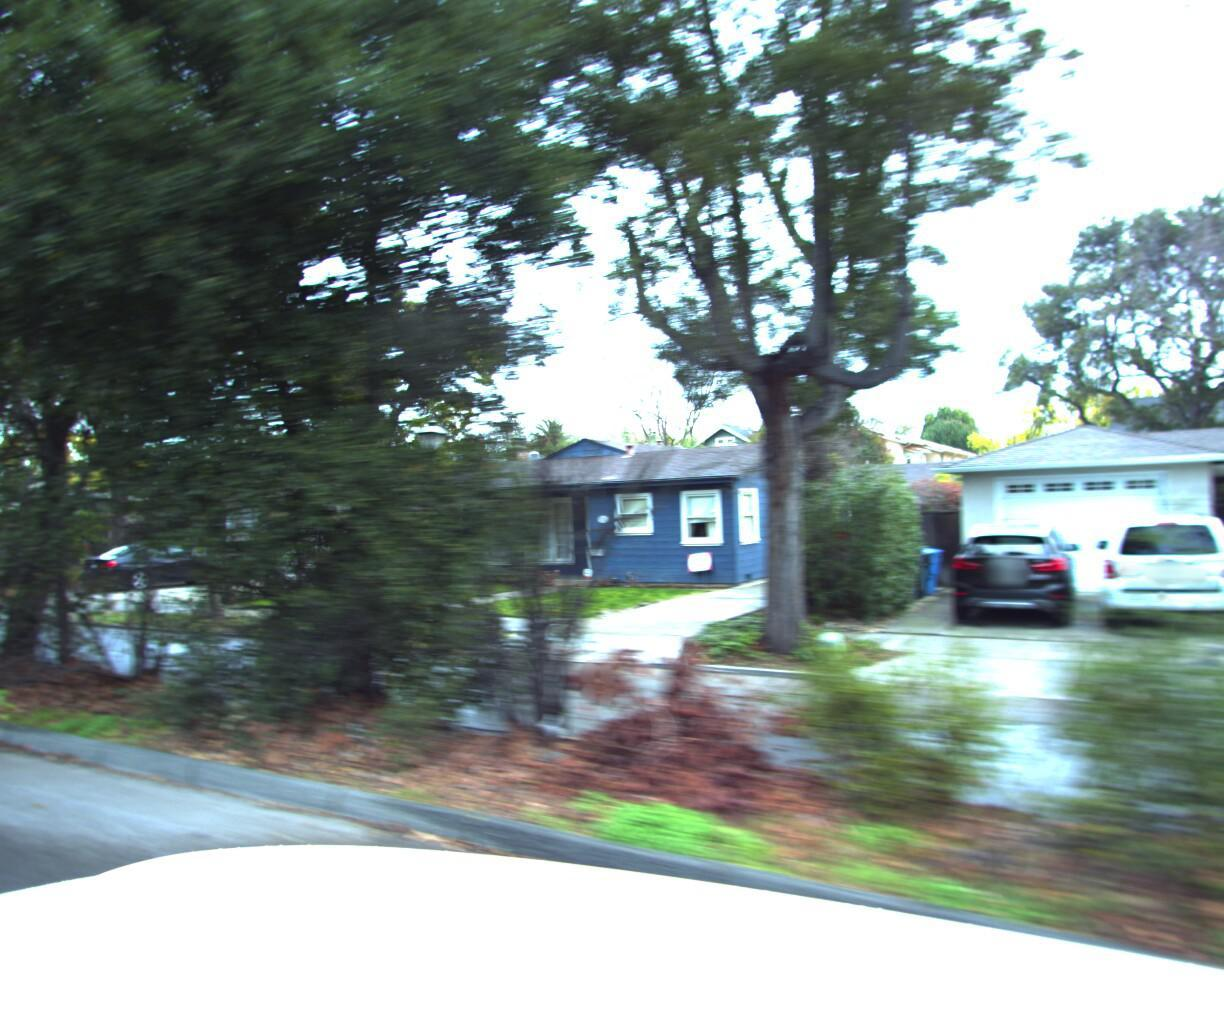car: (1087, 496, 1224, 635), (940, 511, 1084, 623)
